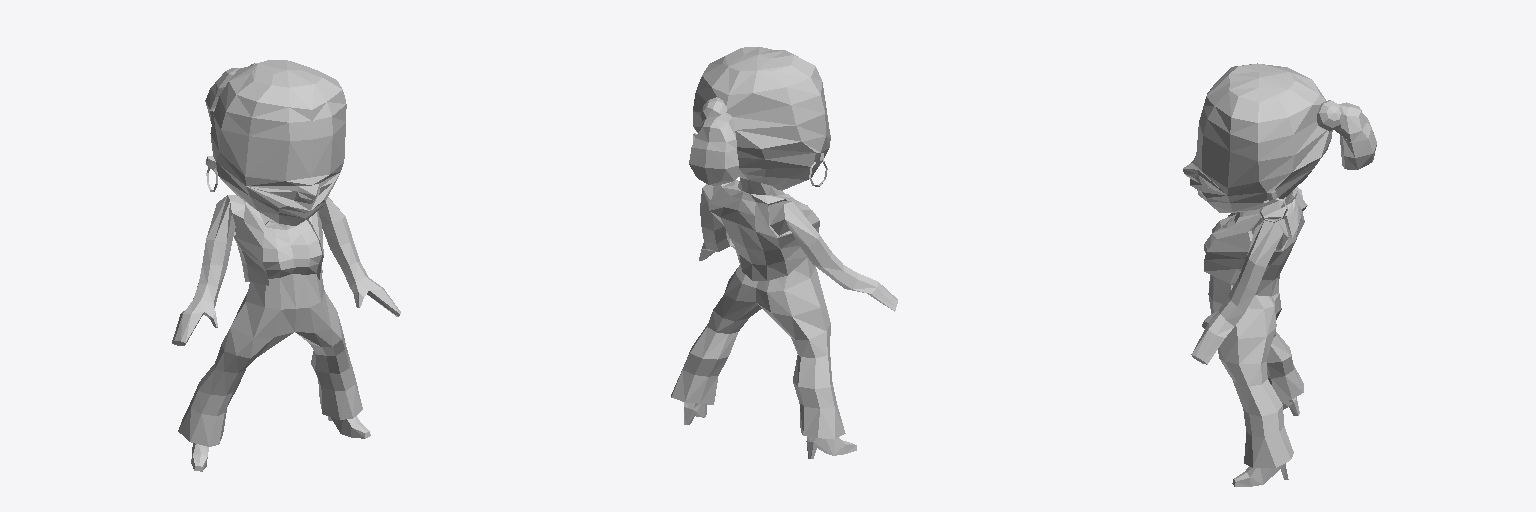
Rendered from bailarina_000124.obj.
3 views of the same model, side by side, from view 1: azimuth 30°, elevation 25°; view 2: azimuth 150°, elevation 25°; view 3: azimuth 270°, elevation 25° (orthographic).
Visible parts, largest first — view 1: bAilarina:Mesh; view 2: bAilarina:Mesh; view 3: bAilarina:Mesh.
Boxes of the visible parts, x1,y1,x2,y2 form: bAilarina:Mesh: [172, 60, 400, 471]; bAilarina:Mesh: [671, 47, 897, 458]; bAilarina:Mesh: [1183, 63, 1376, 486].
Size of the model in its own units: 9.8 by 16.69 by 7.82.